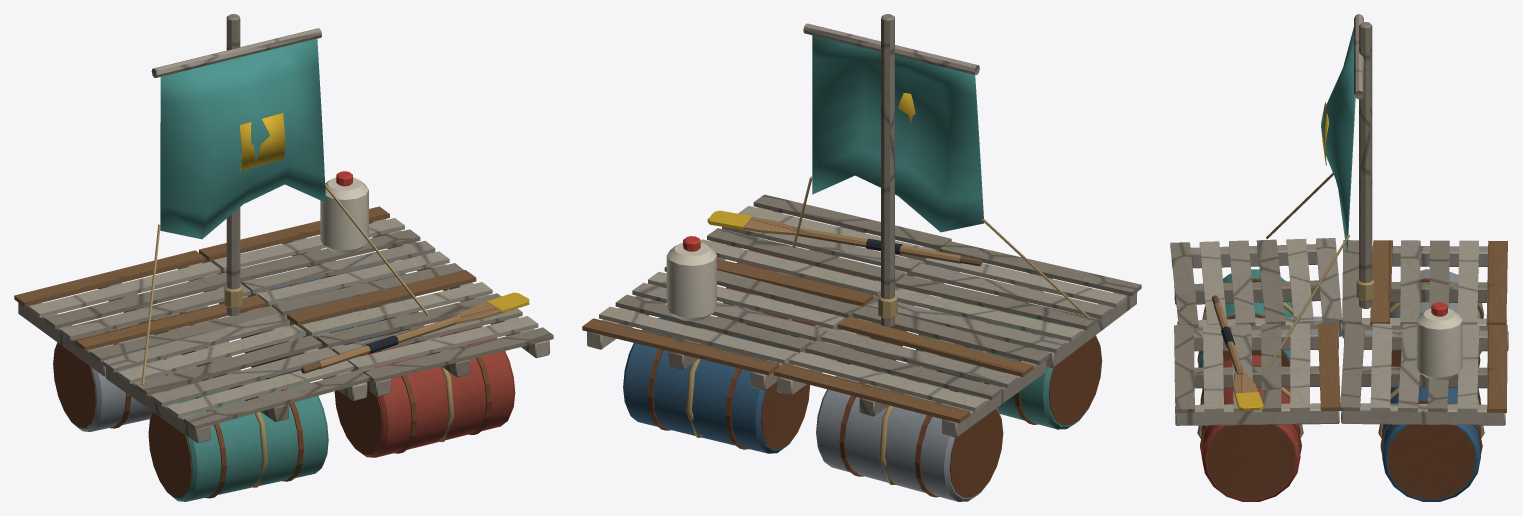
File: pallet_raft.glb
3 renders of one model, left to right at view 1: azimuth 30°, elevation 25°; view 2: azimuth 150°, elevation 25°; view 3: azimuth 270°, elevation 25°, orthographic. The views are drawn at different scales.
Visible parts, largest first — view 1: pallet_raft; view 2: pallet_raft; view 3: pallet_raft.
Boxes of the visible parts, <box> form: pallet_raft: <box>14,14,553,501</box>; pallet_raft: <box>582,14,1141,501</box>; pallet_raft: <box>1170,14,1508,501</box>.
Size of the model in its own units: 2.52 by 2.63 by 2.06.
23 materials, 23 textured.
